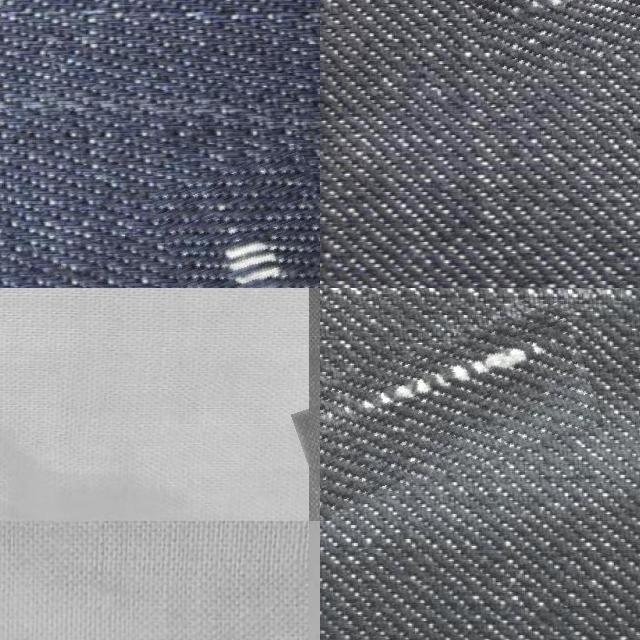Thread_other: (320, 325, 597, 503), (159, 152, 320, 288), (469, 0, 640, 73)
